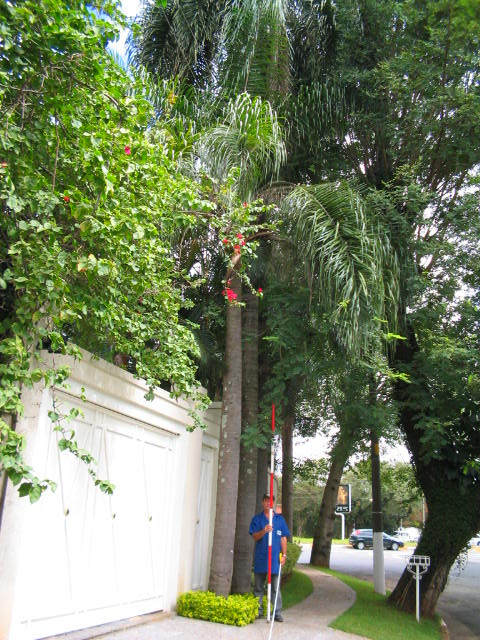stem: (385, 510, 479, 617), (304, 438, 354, 569)
stick: (262, 403, 277, 622)
